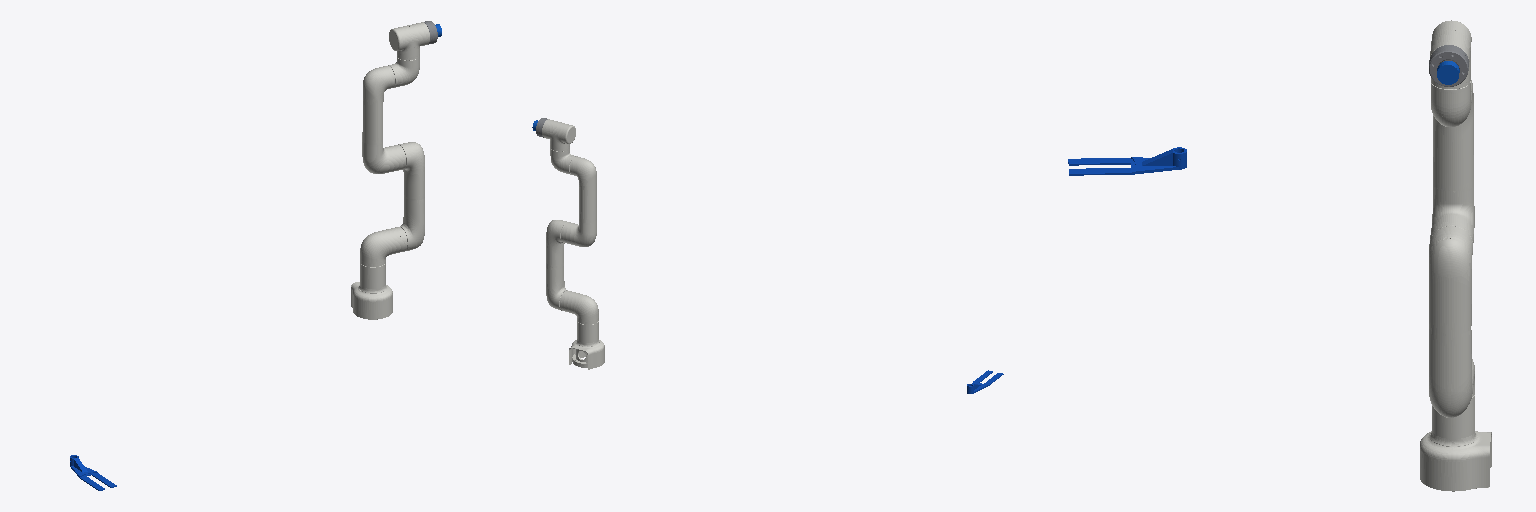
The robot description file, URDF, robot "wafer_cell":
<?xml version="1.0"?>
<!-- Copyright (c) 2026 Jatin Satyam. SPDX-License-Identifier: Apache-2.0 -->
<!-- GENERATED by scripts/generate_cell_urdf.py - do not hand-edit.
     Regenerate after changing any robot xacro or a cell pose. -->
<robot name="wafer_cell">
  <link name="world" />
  <link name="m1pro_base_link">
    <inertial>
      <origin rpy="0 0 0" xyz="0.0020887 0.24592 -9.2948E-06" />
      <mass value="1.6489" />
      <inertia ixx="0.090971" ixy="0.002094" ixz="-4.8449E-06" iyy="0.009863" iyz="1.4427E-05" izz="0.089585" />
    </inertial>
    <visual>
      <origin rpy="0 0 0" xyz="0 0 0" />
      <geometry>
        <mesh filename="package://dobot_m1pro_description/meshes/base_link.STL" />
      </geometry>
      <material name="">
        <color rgba="0.79216 0.81961 0.93333 1" />
      </material>
    </visual>
    <collision>
      <origin rpy="0 0 0" xyz="0.0075 0 0.030" />
      <geometry>
        <box size="0.175 0.230 0.060" />
      </geometry>
    </collision>
    <collision>
      <origin rpy="0 0 0" xyz="-0.0015 0 0.374" />
      <geometry>
        <box size="0.147 0.150 0.628" />
      </geometry>
    </collision>
  </link>
  <link name="m1pro_z_carriage_link">
    <inertial>
      <origin rpy="0 0 0" xyz="0.096709 6.1822E-05 0.090051" />
      <mass value="0.34234" />
      <inertia ixx="0.0016183" ixy="1.9963E-06" ixz="-0.00029873" iyy="0.0016941" iyz="8.0481E-07" izz="0.00088121" />
    </inertial>
    <visual>
      <origin rpy="0 0 0" xyz="0 0 0" />
      <geometry>
        <mesh filename="package://dobot_m1pro_description/meshes/Link1.STL" />
      </geometry>
      <material name="">
        <color rgba="0.79216 0.81961 0.93333 1" />
      </material>
    </visual>
    <collision>
      <origin rpy="0 0 0" xyz="0.108 0 0.1025" />
      <geometry>
        <box size="0.130 0.100 0.205" />
      </geometry>
    </collision>
  </link>
  <link name="m1pro_upper_arm_link">
    <inertial>
      <origin rpy="0 0 0" xyz="0.11428 -2.1681E-05 0.038255" />
      <mass value="0.37995" />
      <inertia ixx="0.00096644" ixy="2.2955E-06" ixz="-0.00059955" iyy="0.0031741" iyz="-2.4057E-09" izz="0.0027963" />
    </inertial>
    <visual>
      <origin rpy="0 0 0" xyz="0 0 0" />
      <geometry>
        <mesh filename="package://dobot_m1pro_description/meshes/Link2.STL" />
      </geometry>
      <material name="">
        <color rgba="0.79216 0.81961 0.93333 1" />
      </material>
    </visual>
    <collision>
      <origin rpy="0 0 0" xyz="0.010 0 0.016" />
      <geometry>
        <box size="0.100 0.080 0.032" />
      </geometry>
    </collision>
    <collision>
      <origin rpy="0 0 0" xyz="0.150 0 0.071" />
      <geometry>
        <box size="0.180 0.080 0.142" />
      </geometry>
    </collision>
  </link>
  <link name="m1pro_forearm_link">
    <inertial>
      <origin rpy="0 0 0" xyz="0.097934 0.00036211 0.0056251" />
      <mass value="0.33738" />
      <inertia ixx="0.00099637" ixy="-1.0881E-06" ixz="-0.00074781" iyy="0.003254" iyz="-3.8055E-07" izz="0.0025681" />
    </inertial>
    <visual>
      <origin rpy="0 0 0" xyz="0 0 0" />
      <geometry>
        <mesh filename="package://dobot_m1pro_description/meshes/Link3.STL" />
      </geometry>
      <material name="">
        <color rgba="0.79216 0.81961 0.93333 1" />
      </material>
    </visual>
    <collision>
      <origin rpy="0 0 0" xyz="0.0145 0 -0.0235" />
      <geometry>
        <box size="0.091 0.062 0.053" />
      </geometry>
    </collision>
    <collision>
      <origin rpy="0 0 0" xyz="0.1455 0 0.035" />
      <geometry>
        <box size="0.171 0.064 0.170" />
      </geometry>
    </collision>
  </link>
  <link name="m1pro_wrist_link">
    <inertial>
      <origin rpy="0 0 0" xyz="3.505E-13 -1.5772E-11 -0.038921" />
      <mass value="0.010941" />
      <inertia ixx="7.2568E-06" ixy="4.4734E-21" ixz="6.1388E-17" iyy="7.2589E-06" iyz="-4.5944E-15" izz="4.4133E-07" />
    </inertial>
    <visual>
      <origin rpy="0 0 0" xyz="0 0 0.08081" />
      <geometry>
        <mesh filename="package://dobot_m1pro_description/meshes/Link4.STL" />
      </geometry>
      <material name="">
        <color rgba="0.79216 0.81961 0.93333 1" />
      </material>
    </visual>
    <collision>
      <origin rpy="0 0 0" xyz="0 0 0.044" />
      <geometry>
        <cylinder length="0.088" radius="0.009" />
      </geometry>
    </collision>
  </link>
  <joint name="m1pro_z_lift" type="prismatic">
    <origin rpy="0 0 0" xyz="-0.003 0 0.0959" />
    <parent link="m1pro_base_link" />
    <child link="m1pro_z_carriage_link" />
    <axis xyz="0 0 1" />
    <limit effort="2000.0" lower="0.000000" upper="0.250000" velocity="0.5" />
    <dynamics damping="1.0" friction="0.5" />
  </joint>
  <joint name="m1pro_shoulder" type="revolute">
    <origin rpy="0 0 0" xyz="0.123 0 0.0099745" />
    <parent link="m1pro_z_carriage_link" />
    <child link="m1pro_upper_arm_link" />
    <axis xyz="0 0 1" />
    <limit effort="204.0" lower="-1.483530" upper="1.483530" velocity="3.14" />
    <dynamics damping="1.0" friction="0.5" />
  </joint>
  <joint name="m1pro_elbow" type="revolute">
    <origin rpy="0 0 0.034228" xyz="0.2 0 0" />
    <parent link="m1pro_upper_arm_link" />
    <child link="m1pro_forearm_link" />
    <axis xyz="0 0 -1" />
    <limit effort="204.0" lower="-2.356194" upper="2.356194" velocity="3.14" />
    <dynamics damping="1.0" friction="0.5" />
  </joint>
  <joint name="m1pro_wrist" type="revolute">
    <origin rpy="0 0 0" xyz="0.2 0.00020895 -0.08081" />
    <parent link="m1pro_forearm_link" />
    <child link="m1pro_wrist_link" />
    <axis xyz="0 0 1" />
    <limit effort="20.0" lower="-6.283185" upper="6.283185" velocity="6.0" />
    <dynamics damping="1.0" friction="0.5" />
  </joint>
  <link name="m1pro_tcp">
    <inertial>
      <origin xyz="0 0 0" rpy="0 0 0" />
      <mass value="1e-3" />
      <inertia ixx="1e-6" ixy="0" ixz="0" iyy="1e-6" iyz="0" izz="1e-6" />
    </inertial>
  </link>
  <joint name="m1pro_tcp_fixed" type="fixed">
    <parent link="m1pro_wrist_link" />
    <child link="m1pro_tcp" />
    <origin xyz="0 0 0" />
  </joint>
  <link name="m1pro_fork">
    <visual>
      <origin rpy="1.5708 0 1.5708" xyz="0 0 -0.0250" />
      <geometry>
        <mesh filename="package://wafer_cell_bringup/meshes/m1pro_fork.stl" scale="0.001 0.001 0.001" />
      </geometry>
      <material name="fork_blue">
        <color rgba="0.10 0.35 0.75 1" />
      </material>
    </visual>
    <collision>
      <origin rpy="0 0 0" xyz="0.0823 0 -0.0265" />
      <geometry>
        <box size="0.1895 0.0582 0.003" />
      </geometry>
    </collision>
    <inertial>
      <origin xyz="0.0823 0 -0.0265" />
      <mass value="0.08" />
      <inertia ixx="2.3e-5" ixy="0" ixz="0" iyy="2.4e-4" iyz="0" izz="2.6e-4" />
    </inertial>
  </link>
  <joint name="m1pro_fork_fixed" type="fixed">
    <parent link="m1pro_tcp" />
    <child link="m1pro_fork" />
    <origin xyz="0 0 0" />
  </joint>
  <link name="m1pro_fork_seat">
    <inertial>
      <origin xyz="0 0 0" rpy="0 0 0" />
      <mass value="1e-3" />
      <inertia ixx="1e-6" ixy="0" ixz="0" iyy="1e-6" iyz="0" izz="1e-6" />
    </inertial>
  </link>
  <joint name="m1pro_fork_seat_fixed" type="fixed">
    <parent link="m1pro_fork" />
    <child link="m1pro_fork_seat" />
    <origin xyz="0.1470 0 -0.0250" />
  </joint>
  <joint name="m1pro_mount" type="fixed">
    <parent link="world" />
    <child link="m1pro_base_link" />
    <origin xyz="-0.609 0.204 0.0" rpy="0.0 0.0 -1.5707963267948966" />
  </joint>
  <link name="pro600_base">
    <visual>
      <origin rpy="0 0 0" xyz="0 0 0" />
      <geometry>
        <mesh filename="package://mycobot_pro600_description/meshes/base.stl" />
      </geometry>
      <material name="pro600_body">
        <color rgba="0.82 0.82 0.80 1" />
      </material>
    </visual>
    <collision>
      <origin xyz="0 0 0.10" />
      <geometry>
        <cylinder length="0.200" radius="0.090" />
      </geometry>
    </collision>
    <inertial>
      <origin xyz="0 0 0.10" />
      <mass value="8.0" />
      <inertia ixx="0.04286666666666667" ixy="0.0" ixz="0.0" iyy="0.04286666666666667" iyz="0.0" izz="0.0324" />
    </inertial>
  </link>
  <link name="pro600_link1">
    <visual>
      <origin rpy="0 0 3.1415926" xyz="0 0 0" />
      <geometry>
        <mesh filename="package://mycobot_pro600_description/meshes/link1.stl" />
      </geometry>
      <material name="pro600_body">
        <color rgba="0.82 0.82 0.80 1" />
      </material>
    </visual>
    <collision>
      <origin xyz="0 0 0" />
      <geometry>
        <cylinder length="0.150" radius="0.075" />
      </geometry>
    </collision>
    <inertial>
      <origin xyz="0 0 0" />
      <mass value="4.0" />
      <inertia ixx="0.013124999999999998" ixy="0.0" ixz="0.0" iyy="0.013124999999999998" iyz="0.0" izz="0.01125" />
    </inertial>
  </link>
  <link name="pro600_link2">
    <visual>
      <origin rpy="3.1415926 0 3.1415926" xyz="0 0 -0.080" />
      <geometry>
        <mesh filename="package://mycobot_pro600_description/meshes/link2.stl" />
      </geometry>
      <material name="pro600_body">
        <color rgba="0.82 0.82 0.80 1" />
      </material>
    </visual>
    <collision>
      <origin rpy="0 1.5708 0" xyz="0.125 0 0" />
      <geometry>
        <cylinder length="0.250" radius="0.060" />
      </geometry>
    </collision>
    <inertial>
      <origin rpy="0 1.5708 0" xyz="0.125 0 0" />
      <mass value="4.0" />
      <inertia ixx="0.024433333333333335" ixy="0.0" ixz="0.0" iyy="0.024433333333333335" iyz="0.0" izz="0.0072" />
    </inertial>
  </link>
  <link name="pro600_link3">
    <visual>
      <origin rpy="3.1415926 0 3.1415926" xyz="0 0 -0.0855" />
      <geometry>
        <mesh filename="package://mycobot_pro600_description/meshes/link3.stl" />
      </geometry>
      <material name="pro600_body">
        <color rgba="0.82 0.82 0.80 1" />
      </material>
    </visual>
    <collision>
      <origin rpy="0 1.5708 0" xyz="0.125 0 -0.055" />
      <geometry>
        <cylinder length="0.250" radius="0.050" />
      </geometry>
    </collision>
    <inertial>
      <origin rpy="0 1.5708 0" xyz="0.125 0 -0.055" />
      <mass value="2.5" />
      <inertia ixx="0.014583333333333335" ixy="0.0" ixz="0.0" iyy="0.014583333333333335" iyz="0.0" izz="0.003125" />
    </inertial>
  </link>
  <link name="pro600_link4">
    <visual>
      <origin rpy="0 3.1415926 0" xyz="0 0 0" />
      <geometry>
        <mesh filename="package://mycobot_pro600_description/meshes/link4.stl" />
      </geometry>
      <material name="pro600_body">
        <color rgba="0.82 0.82 0.80 1" />
      </material>
    </visual>
    <collision>
      <origin rpy="1.5708 0 0" xyz="0 -0.054 0" />
      <geometry>
        <cylinder length="0.130" radius="0.048" />
      </geometry>
    </collision>
    <inertial>
      <origin rpy="1.5708 0 0" xyz="0 -0.054 0" />
      <mass value="1.5" />
      <inertia ixx="0.0029765000000000004" ixy="0.0" ixz="0.0" iyy="0.0029765000000000004" iyz="0.0" izz="0.0017280000000000002" />
    </inertial>
  </link>
  <link name="pro600_link5">
    <visual>
      <origin rpy="0 0 1.5707" xyz="0 0 0" />
      <geometry>
        <mesh filename="package://mycobot_pro600_description/meshes/link5.stl" />
      </geometry>
      <material name="pro600_body">
        <color rgba="0.82 0.82 0.80 1" />
      </material>
    </visual>
    <collision>
      <origin rpy="0 1.5708 0" xyz="-0.038 0 0" />
      <geometry>
        <cylinder length="0.100" radius="0.045" />
      </geometry>
    </collision>
    <inertial>
      <origin rpy="0 1.5708 0" xyz="-0.038 0 0" />
      <mass value="1.2" />
      <inertia ixx="0.0016075000000000002" ixy="0.0" ixz="0.0" iyy="0.0016075000000000002" iyz="0.0" izz="0.001215" />
    </inertial>
  </link>
  <link name="pro600_link6">
    <visual>
      <origin rpy="0 -1.5707 0" xyz="0.03 0 0" />
      <geometry>
        <mesh filename="package://mycobot_pro600_description/meshes/link6.stl" />
      </geometry>
      <material name="pro600_grey">
        <color rgba="0.55 0.56 0.58 1" />
      </material>
    </visual>
    <collision>
      <origin rpy="0 1.5708 0" xyz="0.015 0 0" />
      <geometry>
        <cylinder length="0.050" radius="0.032" />
      </geometry>
    </collision>
    <inertial>
      <origin rpy="0 1.5708 0" xyz="0.015 0 0" />
      <mass value="0.8" />
      <inertia ixx="0.0003714666666666667" ixy="0.0" ixz="0.0" iyy="0.0003714666666666667" iyz="0.0" izz="0.00040960000000000004" />
    </inertial>
  </link>
  <joint name="pro600_joint1" type="revolute">
    <axis xyz="0 0 1" />
    <limit effort="1000.0" lower="-3.14" upper="3.14159" velocity="2.0" />
    <parent link="pro600_base" />
    <child link="pro600_link1" />
    <origin rpy="0 0 0" xyz="0 0 0.19934" />
    <dynamics damping="1.0" friction="0.5" />
  </joint>
  <joint name="pro600_joint2" type="revolute">
    <axis xyz="0 0 -1" />
    <limit effort="1000.0" lower="-4.7123" upper="1.5708" velocity="2.0" />
    <parent link="pro600_link1" />
    <child link="pro600_link2" />
    <origin rpy="1.5708 -1.5708 0" xyz="0 0 0" />
    <dynamics damping="1.0" friction="0.5" />
  </joint>
  <joint name="pro600_joint3" type="revolute">
    <axis xyz="0 0 -1" />
    <limit effort="1000.0" lower="-2.6179" upper="2.6179" velocity="2.0" />
    <parent link="pro600_link2" />
    <child link="pro600_link3" />
    <origin rpy="0 0 0" xyz="0.25 0 0" />
    <dynamics damping="1.0" friction="0.5" />
  </joint>
  <joint name="pro600_joint4" type="revolute">
    <axis xyz="0 0 -1" />
    <limit effort="1000.0" lower="-4.5378" upper="1.3962" velocity="2.0" />
    <parent link="pro600_link3" />
    <child link="pro600_link4" />
    <origin rpy="0 0 1.5708" xyz="0.25 0 -0.1091" />
    <dynamics damping="0.5" friction="0.2" />
  </joint>
  <joint name="pro600_joint5" type="revolute">
    <axis xyz="0 0 1" />
    <limit effort="1000.0" lower="-2.9321" upper="2.9321" velocity="2.0" />
    <parent link="pro600_link4" />
    <child link="pro600_link5" />
    <origin rpy="1.5708 -1.5708 0" xyz="0 -0.108 0" />
    <dynamics damping="0.5" friction="0.2" />
  </joint>
  <joint name="pro600_joint6" type="revolute">
    <axis xyz="-1 0 0" />
    <limit effort="1000.0" lower="-3.0368" upper="3.0368" velocity="2.0" />
    <parent link="pro600_link5" />
    <child link="pro600_link6" />
    <origin rpy="-1.5708 0 0" xyz="-0.07586 0 0" />
    <dynamics damping="0.3" friction="0.1" />
  </joint>
  <link name="pro600_flange">
    <inertial>
      <origin xyz="0 0 0" rpy="0 0 0" />
      <mass value="1e-3" />
      <inertia ixx="1e-6" ixy="0" ixz="0" iyy="1e-6" iyz="0" izz="1e-6" />
    </inertial>
  </link>
  <joint name="pro600_flange_fixed" type="fixed">
    <parent link="pro600_link6" />
    <child link="pro600_flange" />
    <origin rpy="0 -1.5708 0" xyz="0.03 0 0" />
  </joint>
  <link name="pro600_cup">
    <visual>
      <origin rpy="0 0 0" xyz="0 0 0.0175" />
      <geometry>
        <cylinder length="0.0350" radius="0.0060" />
      </geometry>
      <material name="cup_steel">
        <color rgba="0.62 0.64 0.68 1" />
      </material>
    </visual>
    <visual>
      <origin rpy="0 0 0" xyz="0 0 0.0430" />
      <geometry>
        <cylinder length="0.0160" radius="0.0180" />
      </geometry>
      <material name="cup_blue">
        <color rgba="0.11 0.40 0.78 1" />
      </material>
    </visual>
    <collision>
      <origin rpy="0 0 0" xyz="0 0 0.0255" />
      <geometry>
        <cylinder length="0.0510" radius="0.0180" />
      </geometry>
    </collision>
    <inertial>
      <origin xyz="0 0 0.0300" />
      <mass value="0.05" />
      <inertia ixx="2.0e-5" ixy="0" ixz="0" iyy="2.0e-5" iyz="0" izz="8.0e-6" />
    </inertial>
  </link>
  <joint name="pro600_cup_fixed" type="fixed">
    <parent link="pro600_flange" />
    <child link="pro600_cup" />
    <origin xyz="0 0 0" />
  </joint>
  <link name="pro600_cup_tip">
    <inertial>
      <origin xyz="0 0 0" rpy="0 0 0" />
      <mass value="1e-3" />
      <inertia ixx="1e-6" ixy="0" ixz="0" iyy="1e-6" iyz="0" izz="1e-6" />
    </inertial>
  </link>
  <joint name="pro600_cup_tip_fixed" type="fixed">
    <parent link="pro600_cup" />
    <child link="pro600_cup_tip" />
    <origin xyz="0 0 0.0510" />
  </joint>
  <joint name="pro600_mount" type="fixed">
    <parent link="world" />
    <child link="pro600_base" />
    <origin xyz="0.6 0.124 0.008" rpy="0.0 0.0 -1.6144" />
  </joint>
  <link name="belt_base">
    <inertial>
      <origin xyz="0 0 0" rpy="0 0 0" />
      <mass value="1e-3" />
      <inertia ixx="1e-6" ixy="0" ixz="0" iyy="1e-6" iyz="0" izz="1e-6" />
    </inertial>
  </link>
  <joint name="belt_mount" type="fixed">
    <parent link="world" />
    <child link="belt_base" />
    <origin xyz="0.02 0.161 0.06265" rpy="0.0 0.0 0.0" />
  </joint>
  <ros2_control name="wafer_cell_system" type="system">
    <hardware>
      <plugin>gz_ros2_control/GazeboSimSystem</plugin>
    </hardware>
    <joint name="m1pro_z_lift">
      <command_interface name="position">
        <param name="min">0.0</param>
        <param name="max">0.25</param>
      </command_interface>
      <state_interface name="position">
        <param name="initial_value">0.1815</param>
      </state_interface>
      <state_interface name="velocity" />
      <state_interface name="effort" />
    </joint>
    <joint name="m1pro_shoulder">
      <command_interface name="position">
        <param name="min">-1.48353</param>
        <param name="max">1.48353</param>
      </command_interface>
      <state_interface name="position">
        <param name="initial_value">-0.5238</param>
      </state_interface>
      <state_interface name="velocity" />
      <state_interface name="effort" />
    </joint>
    <joint name="m1pro_elbow">
      <command_interface name="position">
        <param name="min">-2.356194</param>
        <param name="max">2.356194</param>
      </command_interface>
      <state_interface name="position">
        <param name="initial_value">-1.2782</param>
      </state_interface>
      <state_interface name="velocity" />
      <state_interface name="effort" />
    </joint>
    <joint name="m1pro_wrist">
      <command_interface name="position">
        <param name="min">-6.283185</param>
        <param name="max">6.283185</param>
      </command_interface>
      <state_interface name="position">
        <param name="initial_value">0.7821</param>
      </state_interface>
      <state_interface name="velocity" />
      <state_interface name="effort" />
    </joint>
    <joint name="pro600_joint1">
      <command_interface name="position">
        <param name="min">-3.14</param>
        <param name="max">3.14159</param>
      </command_interface>
      <state_interface name="position">
        <param name="initial_value">-1.4187</param>
      </state_interface>
      <state_interface name="velocity" />
      <state_interface name="effort" />
    </joint>
    <joint name="pro600_joint2">
      <command_interface name="position">
        <param name="min">-4.7123</param>
        <param name="max">1.5708</param>
      </command_interface>
      <state_interface name="position">
        <param name="initial_value">-0.2167</param>
      </state_interface>
      <state_interface name="velocity" />
      <state_interface name="effort" />
    </joint>
    <joint name="pro600_joint3">
      <command_interface name="position">
        <param name="min">-2.6179</param>
        <param name="max">2.6179</param>
      </command_interface>
      <state_interface name="position">
        <param name="initial_value">2.2732</param>
      </state_interface>
      <state_interface name="velocity" />
      <state_interface name="effort" />
    </joint>
    <joint name="pro600_joint4">
      <command_interface name="position">
        <param name="min">-4.5378</param>
        <param name="max">1.3962</param>
      </command_interface>
      <state_interface name="position">
        <param name="initial_value">-0.4909</param>
      </state_interface>
      <state_interface name="velocity" />
      <state_interface name="effort" />
    </joint>
    <joint name="pro600_joint5">
      <command_interface name="position">
        <param name="min">-2.9321</param>
        <param name="max">2.9321</param>
      </command_interface>
      <state_interface name="position">
        <param name="initial_value">-1.5662</param>
      </state_interface>
      <state_interface name="velocity" />
      <state_interface name="effort" />
    </joint>
    <joint name="pro600_joint6">
      <command_interface name="position">
        <param name="min">-3.0368</param>
        <param name="max">3.0368</param>
      </command_interface>
      <state_interface name="position">
        <param name="initial_value">-0.0368</param>
      </state_interface>
      <state_interface name="velocity" />
      <state_interface name="effort" />
    </joint>
  </ros2_control>
  <gazebo>
    <plugin filename="gz_ros2_control-system" name="gz_ros2_control::GazeboSimROS2ControlPlugin">
      <parameters>/home/jatin-satyam/dobot_cobot_gazebo_twin/install/wafer_cell_bringup/share/wafer_cell_bringup/config/cell_controllers.yaml</parameters>
    </plugin>
    <plugin filename="gz-sim-detachable-joint-system" name="gz::sim::systems::DetachableJoint">
      <parent_link>m1pro_wrist_link</parent_link>
      <child_model>wafer</child_model>
      <child_link>link</child_link>
      <attach_topic>/wafer/fork/attach</attach_topic>
      <detach_topic>/wafer/fork/detach</detach_topic>
      <output_topic>/wafer/fork/state</output_topic>
      <suppress_child_warning>false</suppress_child_warning>
    </plugin>
    <plugin filename="gz-sim-detachable-joint-system" name="gz::sim::systems::DetachableJoint">
      <parent_link>pro600_link6</parent_link>
      <child_model>wafer</child_model>
      <child_link>link</child_link>
      <attach_topic>/wafer/cup/attach</attach_topic>
      <detach_topic>/wafer/cup/detach</detach_topic>
      <output_topic>/wafer/cup/state</output_topic>
      <suppress_child_warning>false</suppress_child_warning>
    </plugin>
  </gazebo>
</robot>

--- Render facts (derived) ---
The picture shows the robot from 3 angles, left to right: view 1: azimuth 30°, elevation 25°; view 2: azimuth 150°, elevation 25°; view 3: azimuth 270°, elevation 25°; orthographic projection.
Robot: wafer_cell — 20 links, 19 joints (9 revolute, 1 prismatic, 9 fixed); root link world; default pose: all joints at 0.
Links seen in each view (by area): view 1: pro600_link3, pro600_link2, pro600_base, pro600_link1, pro600_link5, pro600_link4, m1pro_fork; view 2: pro600_link3, pro600_link2, pro600_base, pro600_link1, pro600_link5; view 3: pro600_link2, pro600_base, pro600_link3, m1pro_fork, pro600_link4, pro600_link5, pro600_link6.
Link boxes in pixels (x1,y1,x2,y2): pro600_link3: (362,66,405,173); pro600_link2: (398,142,424,251); pro600_base: (351,263,392,319); pro600_link1: (360,227,407,266); pro600_link5: (389,22,429,60); pro600_link4: (388,57,419,87); m1pro_fork: (70,455,116,490); pro600_link3: (561,156,596,246); pro600_link2: (546,220,567,310); pro600_base: (569,321,604,369); pro600_link1: (560,291,598,324); pro600_link5: (542,119,575,151); pro600_link2: (1429,226,1472,417); pro600_base: (1420,395,1491,491); pro600_link3: (1430,80,1474,242); m1pro_fork: (1068,147,1186,175); pro600_link4: (1431,82,1471,126); pro600_link5: (1430,20,1471,89); pro600_link6: (1429,45,1468,86).
Size in the robot's own frame: 1.43 by 0.6789 by 0.8504 metres.
8 mesh visuals loaded from 13 distinct referenced files (8 binary STL); not drawn: 5 (reference not matched to a file when rendering).
